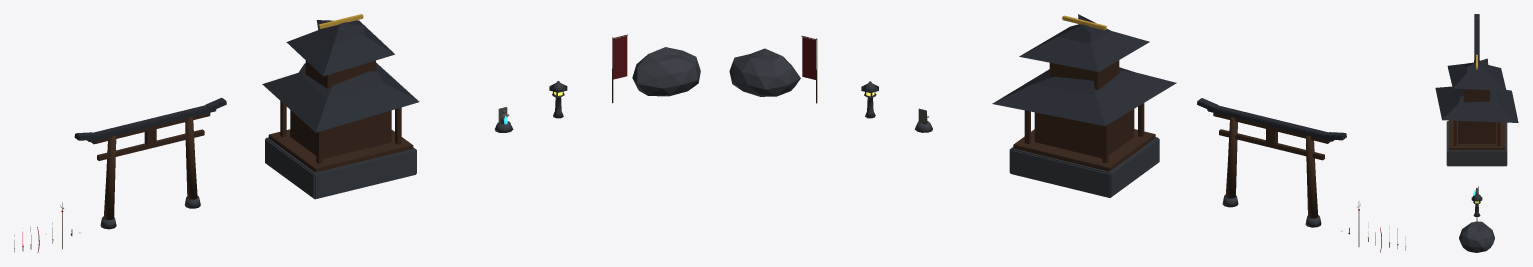
Rendered from weapons_and_arena.glb.
3 views of the same model, side by side, from view 1: azimuth 30°, elevation 25°; view 2: azimuth 150°, elevation 25°; view 3: azimuth 270°, elevation 25° (orthographic). The views are drawn at different scales.
Parts seen in each view (by area): view 1: Pagoda_Roof1, Pagoda_StoneFoundation, Pagoda_Roof2, Pagoda_WallCore, CliffRock_Mesh, Pagoda_TimberFloor, Torii_KasagiTop, Pagoda_UpperLoft, Torii_Pillar_R, Torii_Pillar_L, Torii_NukiBeam, Banner_FlagCloth (+1 smaller); view 2: Pagoda_Roof1, Pagoda_StoneFoundation, Pagoda_Roof2, Pagoda_WallCore, CliffRock_Mesh, Pagoda_TimberFloor, Torii_KasagiTop, Pagoda_UpperLoft, Torii_Pillar_R, Torii_Pillar_L, Torii_NukiBeam, Banner_FlagCloth (+1 smaller); view 3: Pagoda_Roof1, Pagoda_Roof2, Pagoda_StoneFoundation, CliffRock_Mesh, Pagoda_WallCore, Pagoda_TimberFloor, Pagoda_UpperLoft, Torii_KasagiTop, Pagoda_Col_2.9_-2.3, Pagoda_Col_2.9_2.3, Lantern_Post, Lantern_Roof.
Part boxes in pixels (<box>): Pagoda_Roof1: <box>262,62,419,132</box>; Pagoda_StoneFoundation: <box>265,137,416,199</box>; Pagoda_Roof2: <box>286,20,394,76</box>; Pagoda_WallCore: <box>290,110,391,158</box>; CliffRock_Mesh: <box>632,47,700,96</box>; Pagoda_TimberFloor: <box>268,129,413,172</box>; Torii_KasagiTop: <box>87,105,216,141</box>; Pagoda_UpperLoft: <box>305,60,375,88</box>; Torii_Pillar_R: <box>103,135,116,220</box>; Torii_Pillar_L: <box>185,117,197,199</box>; Torii_NukiBeam: <box>97,129,204,160</box>; Banner_FlagCloth: <box>613,36,627,79</box>; Pagoda_Roof1: <box>992,67,1176,126</box>; Pagoda_StoneFoundation: <box>1009,137,1159,197</box>; Pagoda_Roof2: <box>1019,14,1149,71</box>; Pagoda_WallCore: <box>1034,109,1134,158</box>; CliffRock_Mesh: <box>729,48,800,96</box>; Pagoda_TimberFloor: <box>1013,129,1155,171</box>; Torii_KasagiTop: <box>1207,105,1334,141</box>; Pagoda_UpperLoft: <box>1049,60,1119,90</box>; Torii_Pillar_R: <box>1306,135,1318,218</box>; Torii_Pillar_L: <box>1225,117,1237,198</box>; Torii_NukiBeam: <box>1219,129,1324,160</box>; Banner_FlagCloth: <box>802,37,815,79</box>; Pagoda_Roof1: <box>1435,86,1518,122</box>; Pagoda_Roof2: <box>1447,58,1506,90</box>; Pagoda_StoneFoundation: <box>1446,121,1507,166</box>; CliffRock_Mesh: <box>1459,221,1494,252</box>; Pagoda_WallCore: <box>1458,120,1495,143</box>; Pagoda_TimberFloor: <box>1448,120,1505,150</box>; Pagoda_UpperLoft: <box>1463,89,1490,102</box>; Torii_KasagiTop: <box>1474,21,1479,54</box>; Pagoda_Col_2.9_-2.3: <box>1453,120,1456,145</box>; Pagoda_Col_2.9_2.3: <box>1497,122,1500,145</box>; Lantern_Post: <box>1473,201,1480,216</box>; Lantern_Roof: <box>1471,194,1482,201</box>.
Size of the model in its own units: 50.21 by 11.36 by 8.77.
